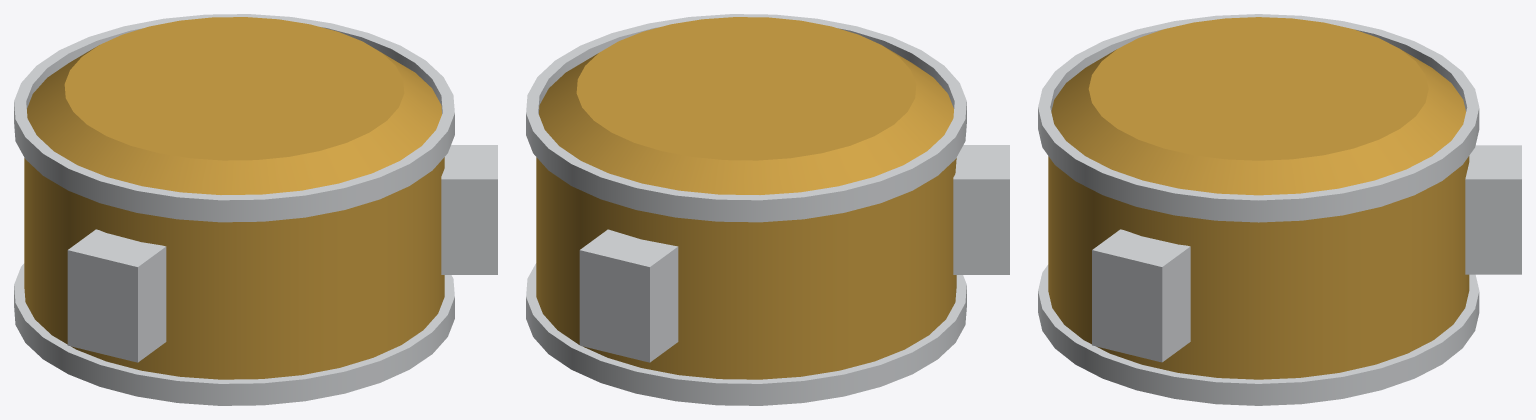
The picture shows the model from 3 angles, left to right: view 1: azimuth 30°, elevation 25°; view 2: azimuth 150°, elevation 25°; view 3: azimuth 270°, elevation 25°; orthographic projection.
Parts seen in each view (by area): view 1: pa100_rx; view 2: pa100_rx; view 3: pa100_rx.
Boxes of the visible parts, <box> form: pa100_rx: <box>14,14,497,405</box>; pa100_rx: <box>526,14,1009,405</box>; pa100_rx: <box>1038,14,1521,405</box>.
Size of the model in its own units: 1.23 by 0.66 by 1.19.
